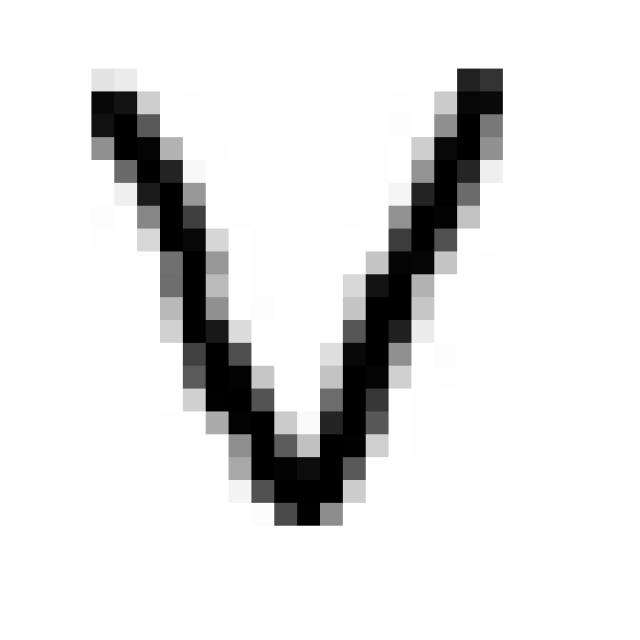7 -seven-: (75, 55, 522, 542)
